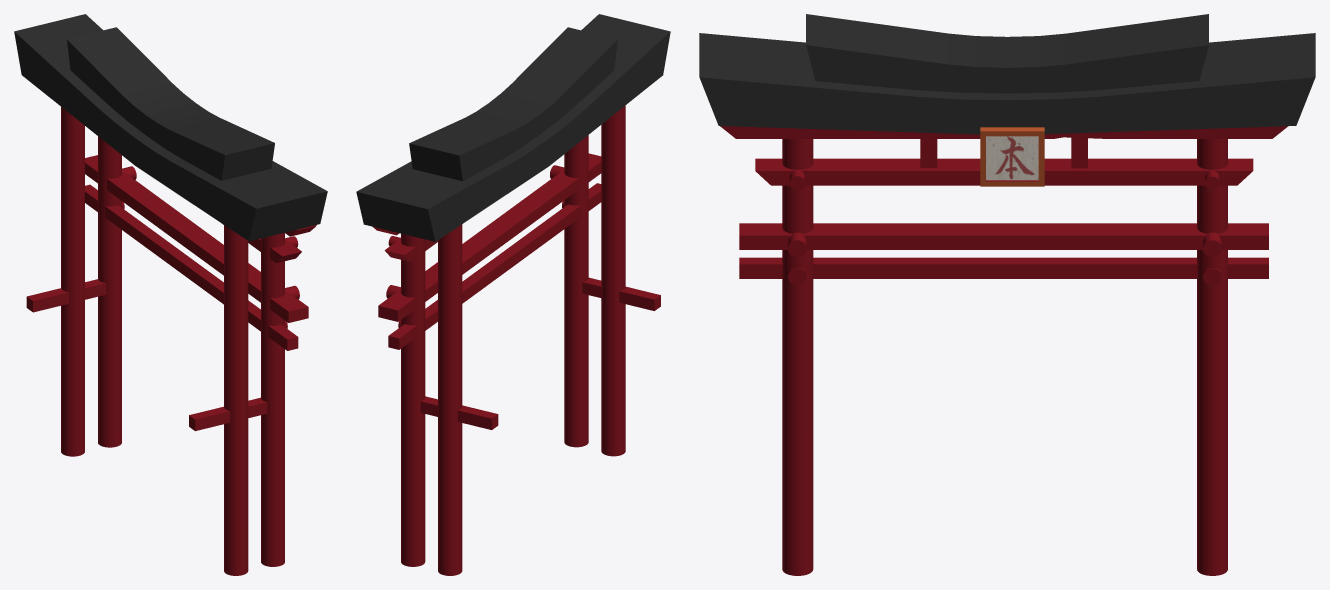
The model's file is entry.fbx.
3 views of the same model, side by side, from view 1: azimuth 30°, elevation 25°; view 2: azimuth 150°, elevation 25°; view 3: azimuth 270°, elevation 25° (orthographic). The views are drawn at different scales.
Parts seen in each view (by area): view 1: Cylinder.002; view 2: Cylinder.002; view 3: Cylinder.002.
Part boxes in pixels (x1,y1,x2,y2): Cylinder.002: (14, 14, 327, 575); Cylinder.002: (356, 14, 670, 575); Cylinder.002: (699, 14, 1315, 575).
Size of the model in its own units: 476 by 1814 by 1919.
